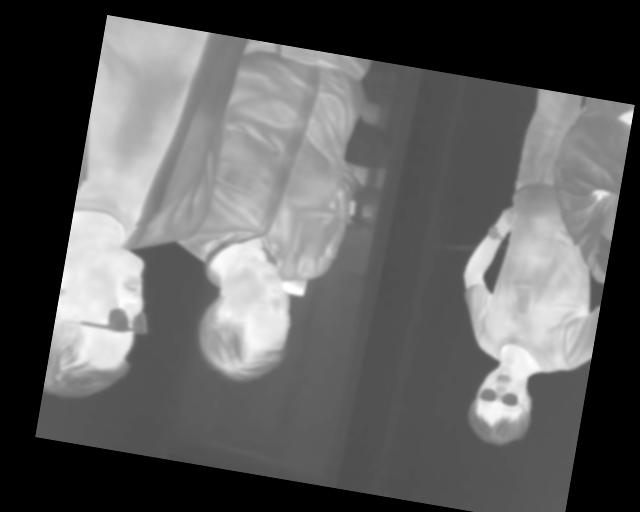face: (42, 240, 157, 410), (188, 252, 301, 388), (463, 357, 539, 451)
